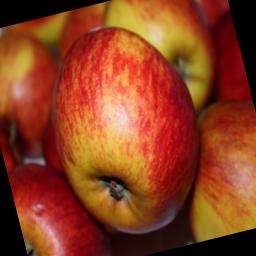Apple Ripe: (34, 1, 234, 256)
